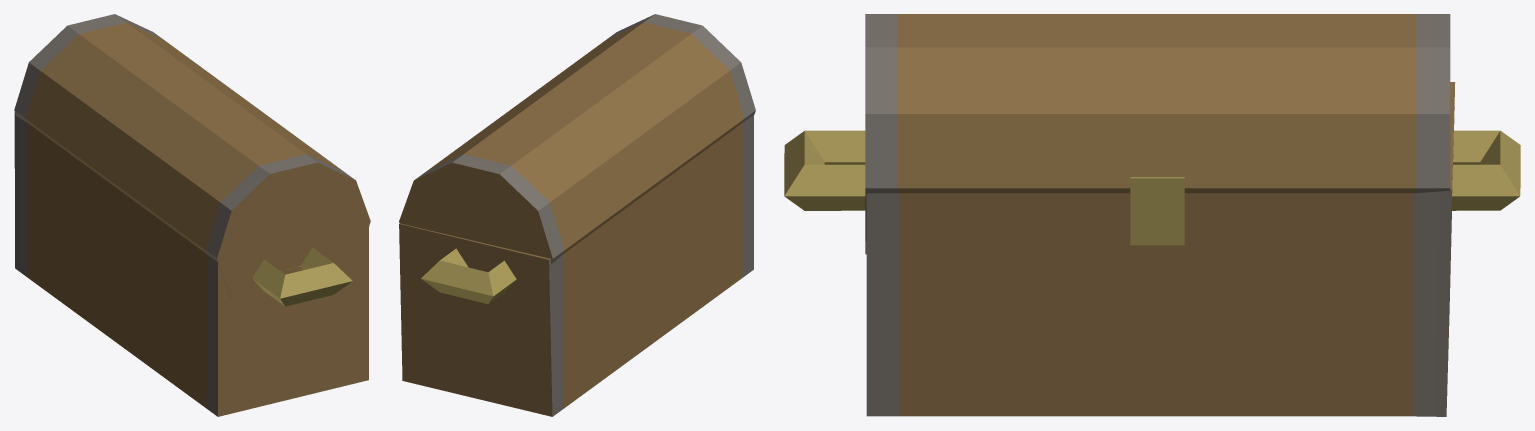
File: Chest.fbx
3 views of the same model, side by side, from view 1: azimuth 30°, elevation 25°; view 2: azimuth 150°, elevation 25°; view 3: azimuth 270°, elevation 25° (orthographic). The views are drawn at different scales.
Visible parts, largest first — view 1: pCylinder1, pCube1, pTorus1; view 2: pCube1, pCylinder1, pTorus2; view 3: pCube1, pCylinder1, pTorus1, pTorus2, pCube2.
Boxes of the visible parts, <box> form: pCylinder1: <box>14,14,370,317</box>; pCube1: <box>14,112,368,416</box>; pTorus1: <box>252,247,352,306</box>; pCube1: <box>399,115,753,416</box>; pCylinder1: <box>399,14,755,264</box>; pTorus2: <box>421,248,516,304</box>; pCube1: <box>866,82,1455,416</box>; pCylinder1: <box>865,14,1450,254</box>; pTorus1: <box>784,130,865,210</box>; pTorus2: <box>1451,130,1520,210</box>; pCube2: <box>1130,177,1184,245</box>.
Bounding box in the file's own units: 2.15 × 3.07 × 6.14.
